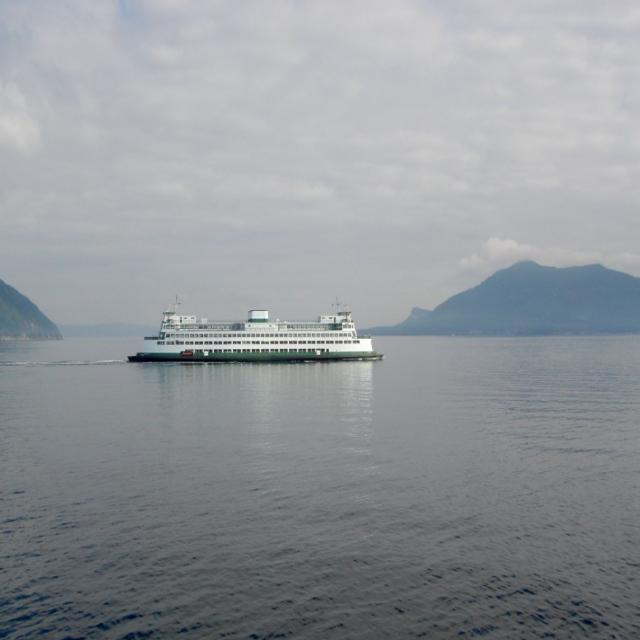passenger ship: (125, 302, 374, 373)
